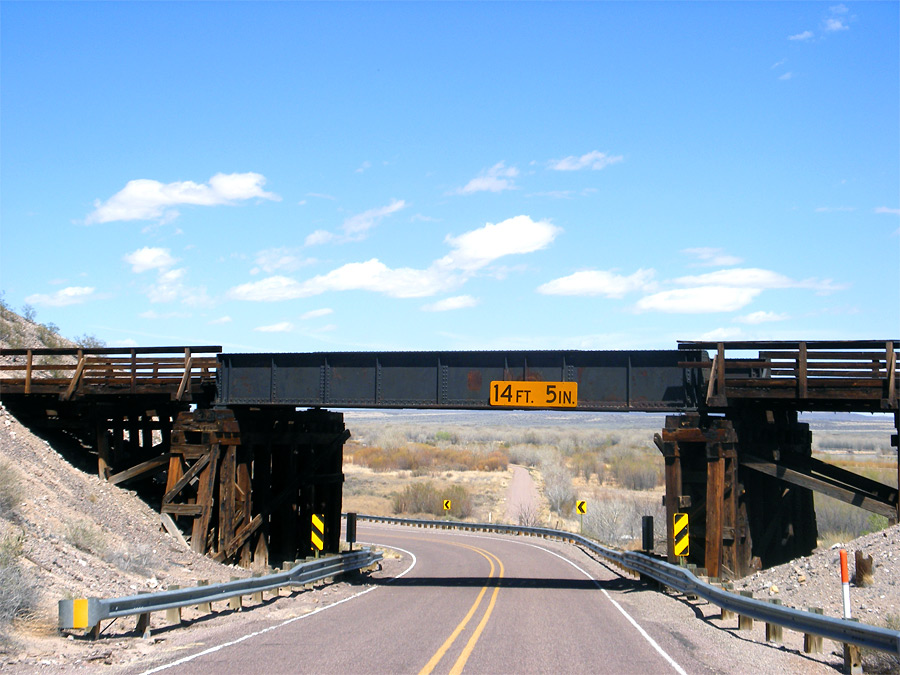bridge: (5, 340, 900, 426)
